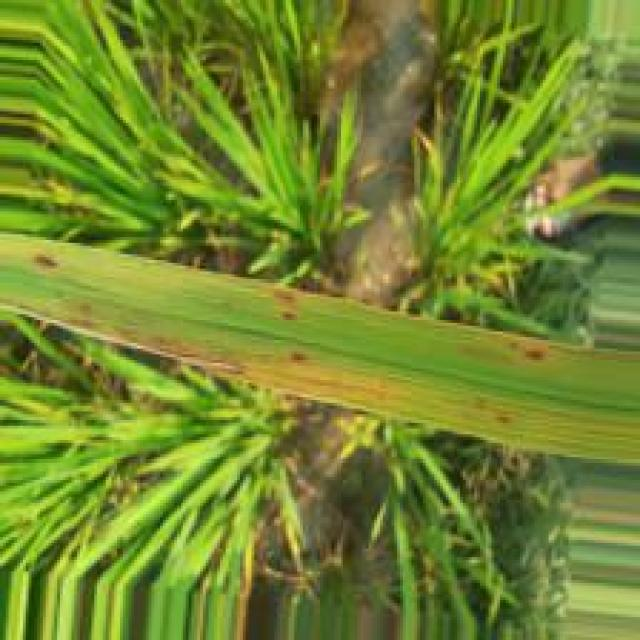Brown_Spot: (106, 323, 257, 381), (265, 287, 303, 307), (32, 250, 67, 271), (524, 344, 553, 363), (289, 348, 314, 368), (277, 310, 304, 322)
